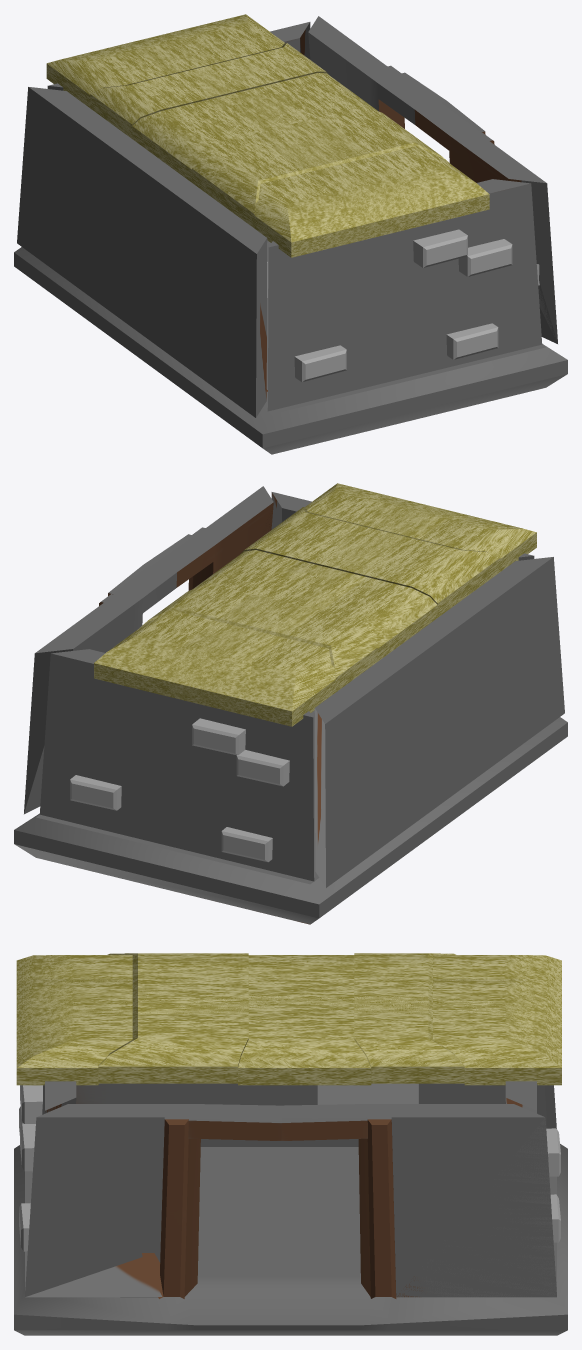
Rendered from BrokenHouse.fbx.
The picture shows the model from 3 angles, top to bottom: view 1: azimuth 30°, elevation 25°; view 2: azimuth 150°, elevation 25°; view 3: azimuth 270°, elevation 25°; orthographic projection. The views are drawn at different scales.
Parts seen in each view (by area): view 1: polySurface15, polySurface12, polySurface16, polySurface17, polySurface8, pasted__polySurface7, pasted__polySurface8, pasted__polySurface10, polySurface7, pasted__polySurface6, polySurface9, pasted__polySurface9 (+6 smaller); view 2: polySurface15, polySurface14, polySurface16, polySurface17, polySurface9, pasted__polySurface9, pasted__polySurface7, pasted__polySurface10, polySurface7, polySurface10, pasted__polySurface6, pasted__polySurface8 (+6 smaller); view 3: polySurface17, polySurface16, polySurface9, polySurface10, polySurface8, polySurface7, polySurface15, polySurface6, pasted__polySurface7, pasted__polySurface10, pasted__polySurface9, pasted__polySurface8 (+6 smaller).
Part boxes in pixels (x1=…): polySurface15: x1=17, y1=87, x2=267, y2=417; polySurface12: x1=267, y1=179, x2=542, y2=411; polySurface16: x1=14, y1=240, x2=567, y2=454; polySurface17: x1=308, y1=16, x2=557, y2=343; polySurface8: x1=305, y1=146, x2=489, y2=246; pasted__polySurface7: x1=192, y1=117, x2=372, y2=228; pasted__polySurface8: x1=254, y1=167, x2=443, y2=257; pasted__polySurface10: x1=132, y1=84, x2=301, y2=182; polySurface7: x1=253, y1=106, x2=448, y2=173; pasted__polySurface6: x1=90, y1=58, x2=255, y2=138; polySurface9: x1=104, y1=14, x2=284, y2=73; pasted__polySurface9: x1=46, y1=25, x2=231, y2=107; polySurface15: x1=314, y1=557, x2=564, y2=887; polySurface14: x1=39, y1=649, x2=314, y2=881; polySurface16: x1=14, y1=710, x2=567, y2=924; polySurface17: x1=24, y1=486, x2=273, y2=814; polySurface9: x1=94, y1=610, x2=283, y2=715; pasted__polySurface9: x1=138, y1=625, x2=335, y2=726; pasted__polySurface7: x1=296, y1=526, x2=500, y2=617; pasted__polySurface10: x1=260, y1=561, x2=437, y2=661; polySurface7: x1=241, y1=507, x2=420, y2=575; polySurface10: x1=193, y1=550, x2=366, y2=610; pasted__polySurface6: x1=217, y1=594, x2=377, y2=692; pasted__polySurface8: x1=355, y1=494, x2=536, y2=571; polySurface17: x1=25, y1=1104, x2=556, y2=1298; polySurface16: x1=14, y1=1144, x2=567, y2=1335; polySurface9: x1=433, y1=979, x2=561, y2=1085; polySurface10: x1=238, y1=994, x2=371, y2=1085; polySurface8: x1=16, y1=979, x2=132, y2=1085; polySurface7: x1=98, y1=988, x2=248, y2=1083; polySurface15: x1=76, y1=1083, x2=556, y2=1146; polySurface6: x1=354, y1=987, x2=464, y2=1083; pasted__polySurface7: x1=107, y1=953, x2=248, y2=1016; pasted__polySurface10: x1=248, y1=955, x2=354, y2=1009; pasted__polySurface9: x1=433, y1=955, x2=561, y2=1039; pasted__polySurface8: x1=16, y1=955, x2=132, y2=1042.
Size of the model in its own units: 6.74 by 4.74 by 9.39.
